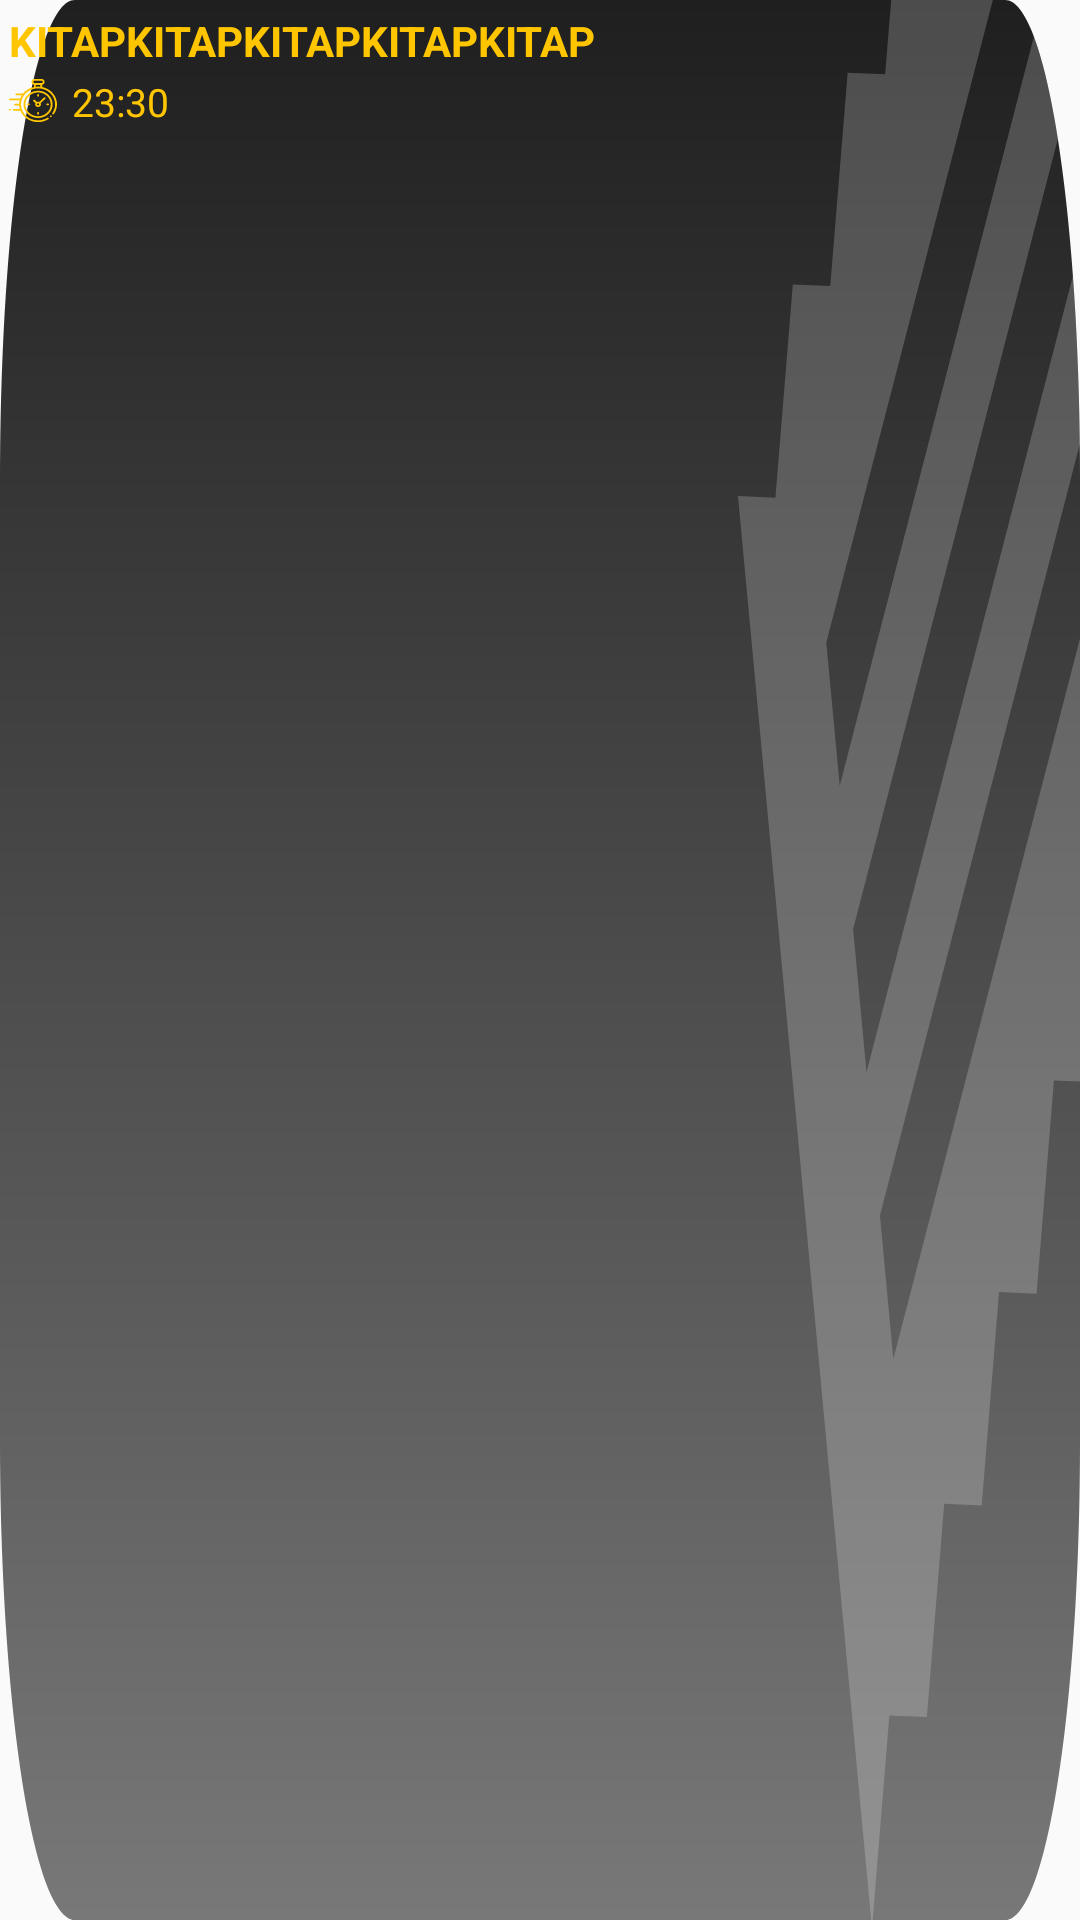

Where to tap for icons on this 1080w x 1920h app screen, as [x,y]:
clock: [33,100]
